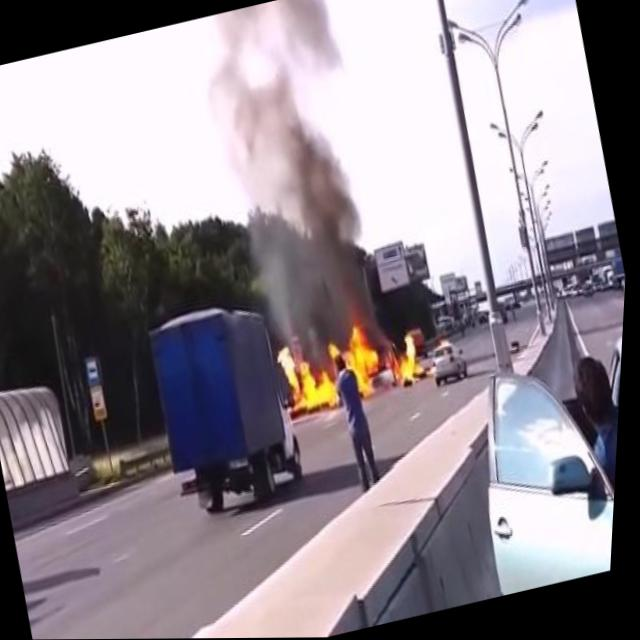fire: (283, 311, 436, 424)
